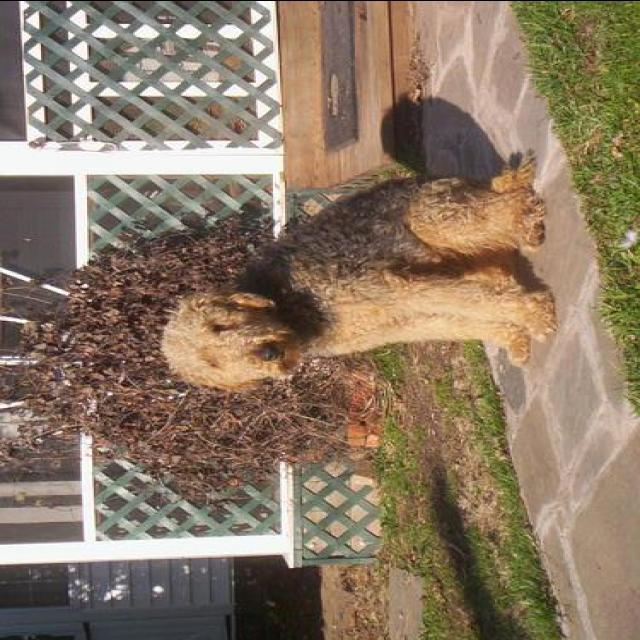airedale: (156, 148, 562, 392)
